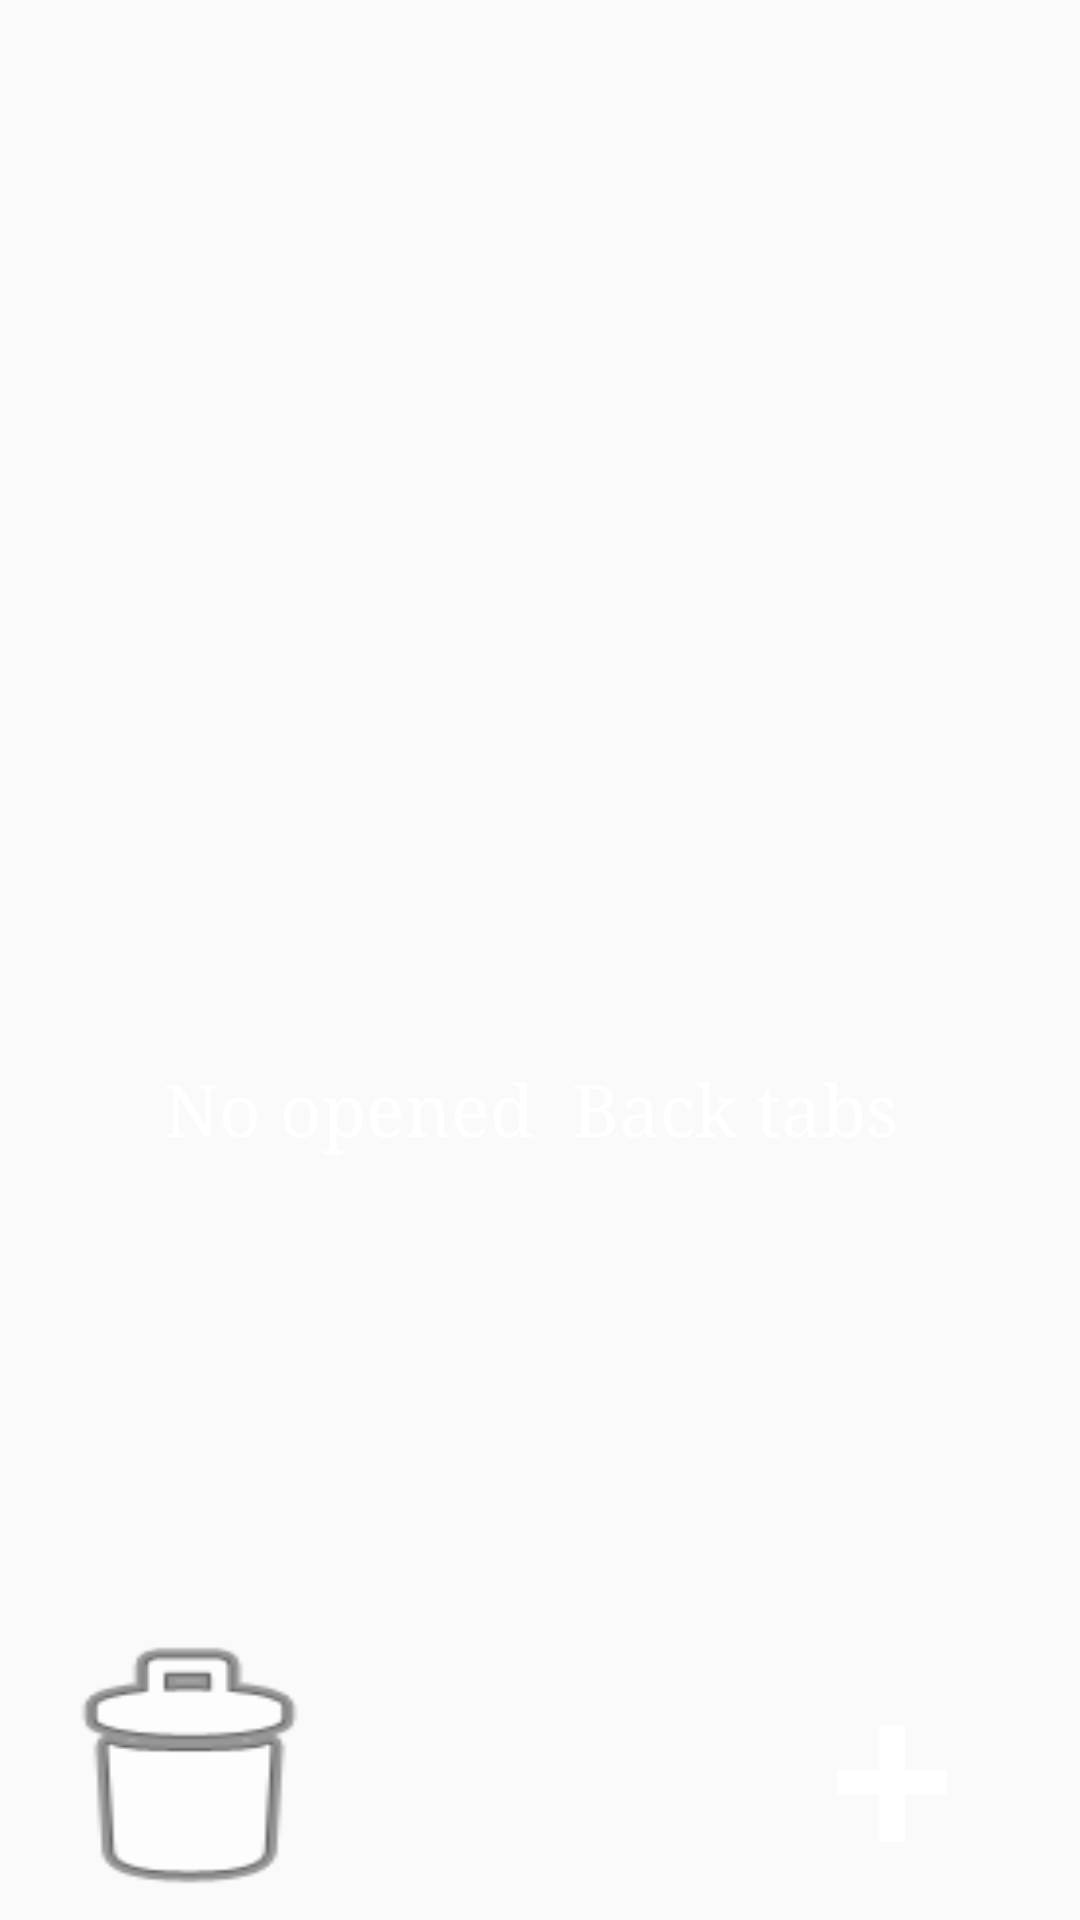

Where to tap for icons on this 1080px x 1920px app screen, as (x=x, y=y):
delete: (x=189, y=1765)
